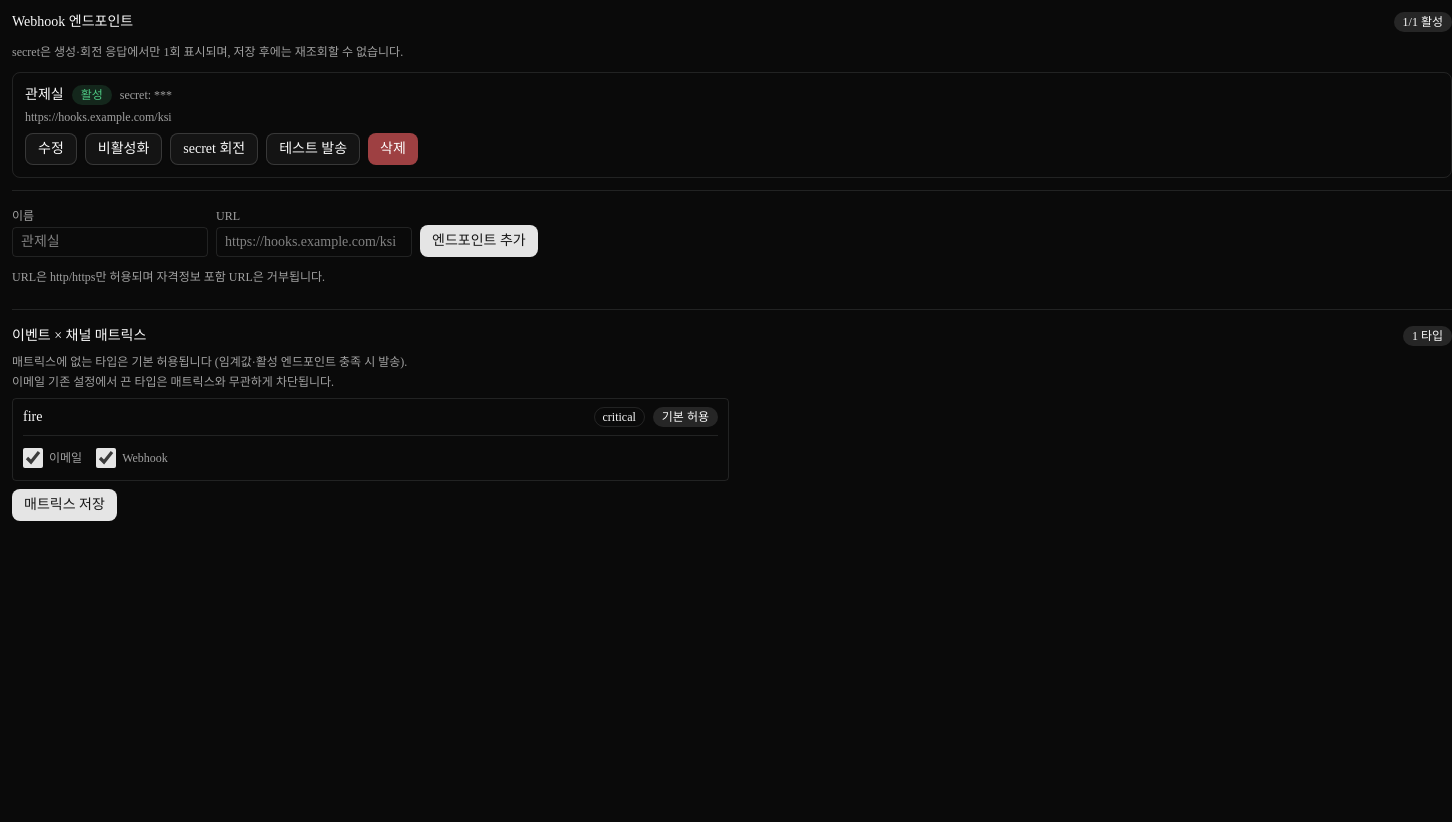
Test: WebhookSettings › C1+C2: 회전 응답의 중첩 평문도 1회 표시 + 목록 마스킹
The width and height of the screenshot is (1452, 822).
Click the button "secret 회전" at (214,149), box [170,133,258,165]
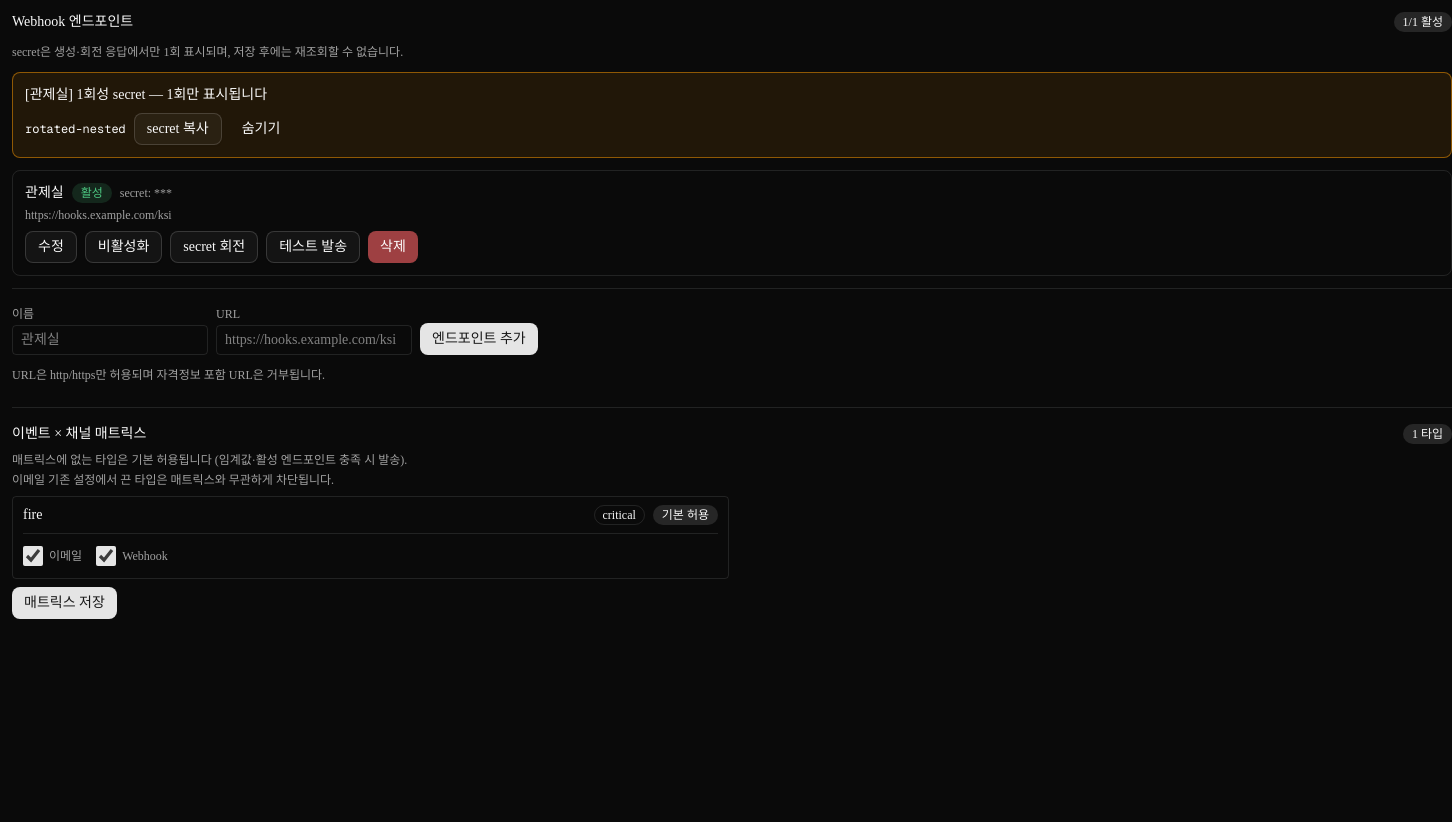
Expected: the text "secret: ***" is shown, [120,185,172,201]
Result: the text "rotated-nested" is shown at [25,121,126,137]
